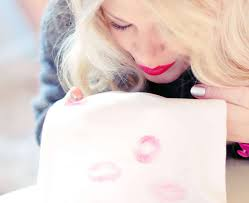kimchi: (131, 133, 165, 165), (86, 160, 123, 183), (154, 181, 186, 203)
